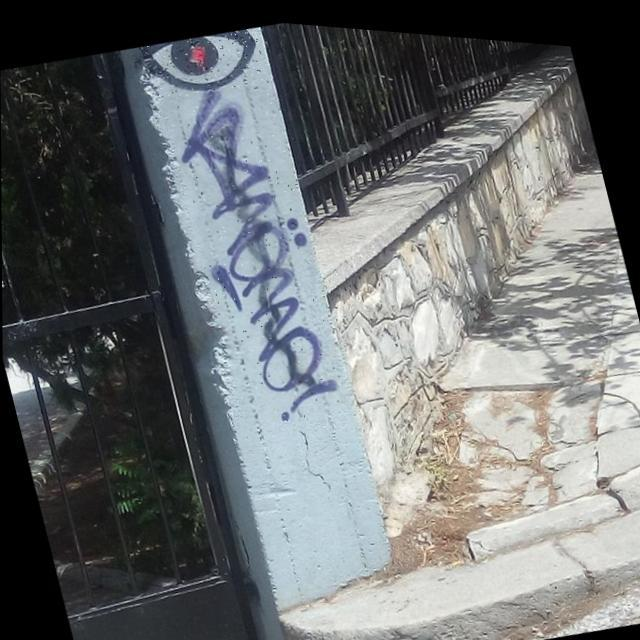-: (163, 70, 351, 429), (138, 16, 268, 106)
